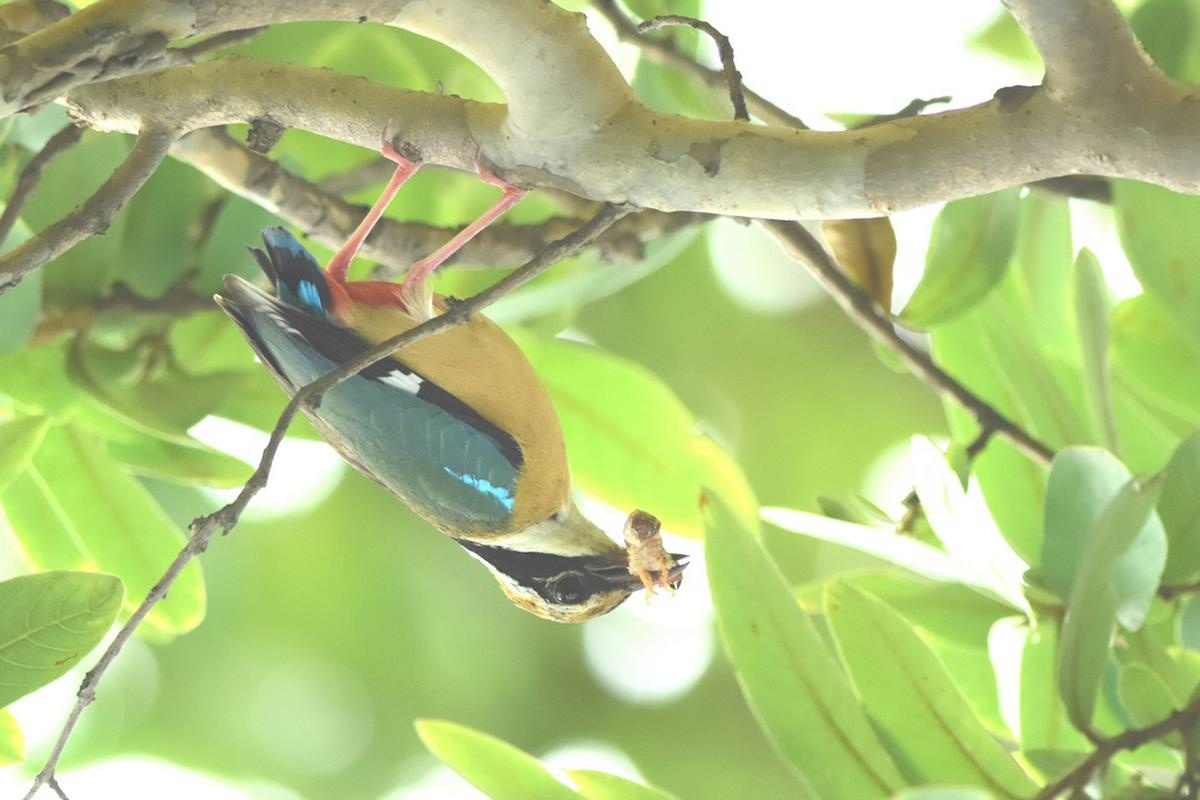pitta: (225, 83, 691, 666)
